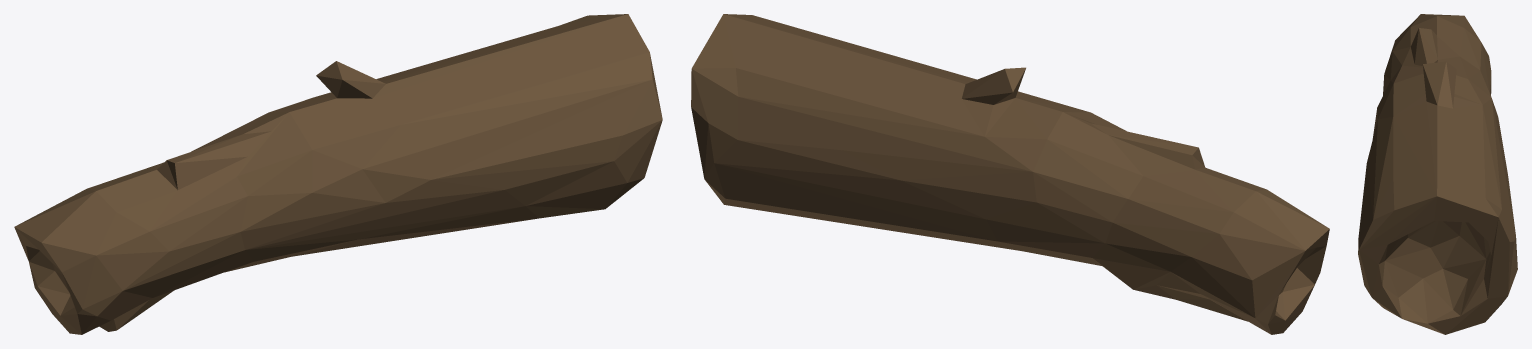
File: SM_dead_trunk_07.fbx
3 views of the same model, side by side, from view 1: azimuth 30°, elevation 25°; view 2: azimuth 150°, elevation 25°; view 3: azimuth 270°, elevation 25° (orthographic). The views are drawn at different scales.
Parts seen in each view (by area): view 1: dead_trunk_07; view 2: dead_trunk_07; view 3: dead_trunk_07.
Boxes of the visible parts, x1,y1,x2,y2 form: dead_trunk_07: (14,14,662,334); dead_trunk_07: (691,14,1329,334); dead_trunk_07: (1358,14,1517,334).
Size of the model in its own units: 298 by 97.47 by 81.35.
